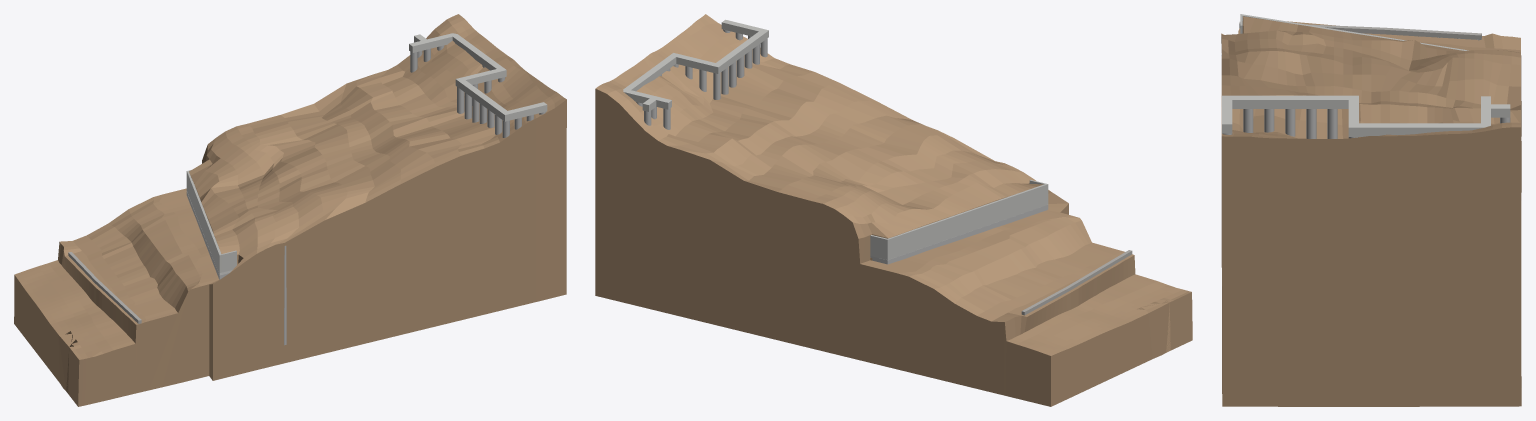
The model's file is spw1.glb.
3 renders of one model, left to right at view 1: azimuth 30°, elevation 25°; view 2: azimuth 150°, elevation 25°; view 3: azimuth 270°, elevation 25°, orthographic. The views are drawn at different scales.
Visible parts, largest first — view 1: Terrain 01 - NGL.Stage02.001, RTW1.001, CB2-RL13.50.007, CB2-RL13.50.009, Cube.020; view 2: Terrain 01 - NGL.Stage02.001, RTW1.001, Cube, Cube.020, CB2-RL13.50.007, CB2-RL13.50.009; view 3: Terrain 01 - NGL.Stage02.001, CB2-RL13.50.007, CB2-RL13.50.009, Cube.020, RTW1.001, CB2-RL13.50.012, Cylinder.160, Cylinder.186, CB2-RL13.50.008, Cylinder.187, CB2-RL13.50.011, CB2-RL13.50.010.
Boxes of the visible parts, box(x1,y1,x2,y2) form: Terrain 01 - NGL.Stage02.001: box(14, 14, 566, 406); RTW1.001: box(186, 170, 236, 275); CB2-RL13.50.007: box(455, 79, 510, 121); CB2-RL13.50.009: box(449, 33, 506, 77); Cube.020: box(68, 252, 141, 323); Terrain 01 - NGL.Stage02.001: box(595, 14, 1192, 406); RTW1.001: box(870, 180, 1048, 259); Cube: box(870, 205, 1048, 264); Cube.020: box(1021, 250, 1132, 315); CB2-RL13.50.007: box(712, 29, 768, 73); CB2-RL13.50.009: box(623, 53, 678, 91); Terrain 01 - NGL.Stage02.001: box(1221, 16, 1521, 406); CB2-RL13.50.007: box(1222, 95, 1358, 108); CB2-RL13.50.009: box(1348, 123, 1490, 136); Cube.020: box(1239, 22, 1481, 39); RTW1.001: box(1240, 14, 1468, 50); CB2-RL13.50.012: box(1222, 96, 1232, 133); Cylinder.160: box(1327, 109, 1337, 138); Cylinder.186: box(1306, 109, 1316, 138); CB2-RL13.50.008: box(1348, 96, 1358, 127); Cylinder.187: box(1285, 109, 1295, 136); CB2-RL13.50.011: box(1486, 104, 1510, 117); CB2-RL13.50.010: box(1481, 96, 1490, 128).
Size of the model in its own units: 45.8 by 18.31 by 17.83.
